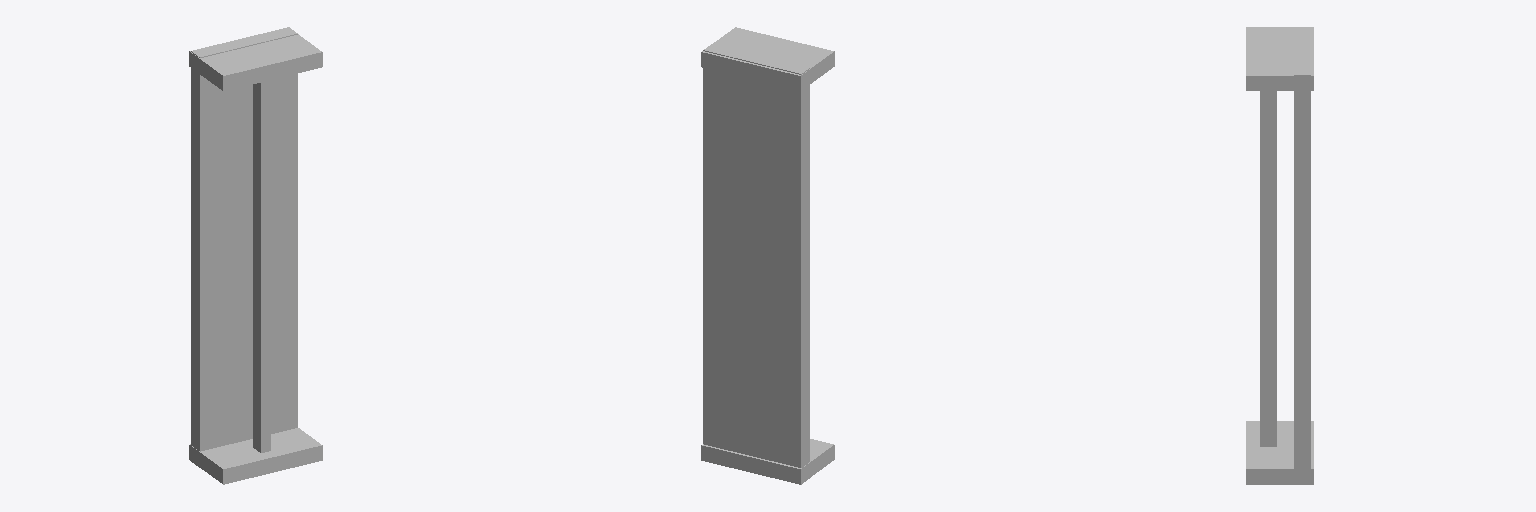
The model's file is banco_longo.obj.
3 renders of one model, left to right at view 1: azimuth 30°, elevation 25°; view 2: azimuth 150°, elevation 25°; view 3: azimuth 270°, elevation 25°, orthographic.
Visible parts, largest first — view 1: Cube, Cube.001, Cube.002; view 2: Cube, Cube.001; view 3: Cube, Cube.001, Cube.002.
Part boxes in pixels (bbox=[...]): Cube: bbox=[191, 27, 297, 467]; Cube.001: bbox=[189, 27, 322, 484]; Cube.002: bbox=[253, 80, 270, 452]; Cube: bbox=[703, 44, 809, 484]; Cube.001: bbox=[701, 27, 834, 484]; Cube: bbox=[1294, 27, 1310, 468]; Cube.001: bbox=[1246, 27, 1313, 484]; Cube.002: bbox=[1260, 91, 1276, 446].
Size of the model in its own units: 2.02 by 8 by 1.2.